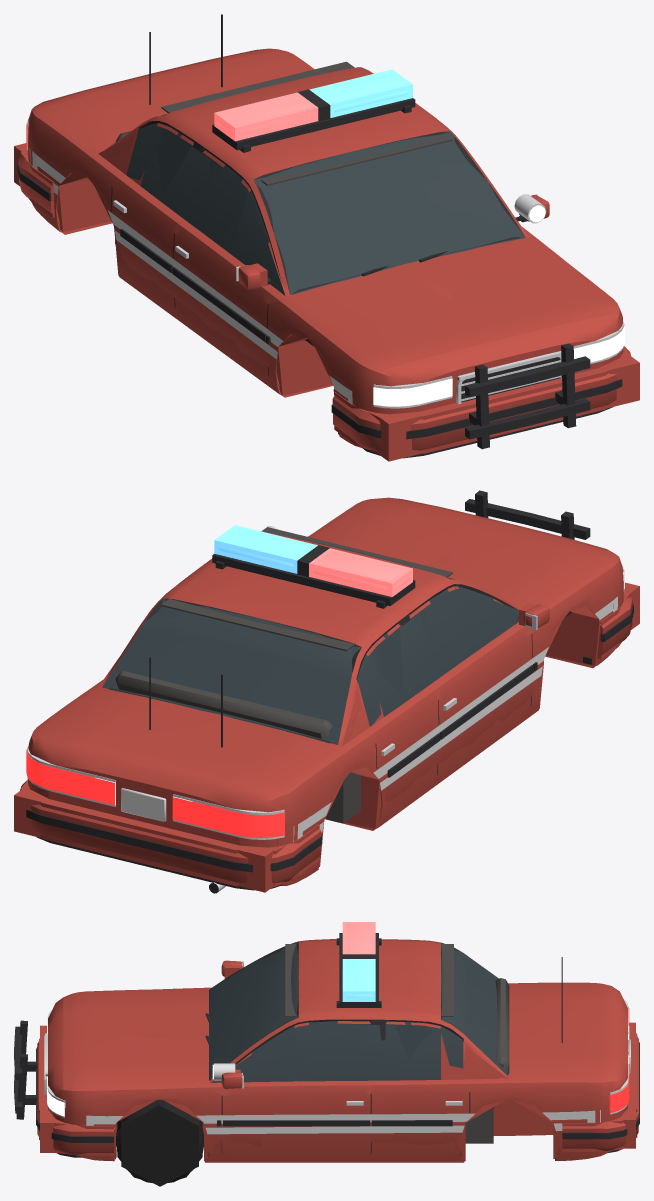
Rendered from sedan-police.glb.
3 views of the same model, one above another, from view 1: azimuth 30°, elevation 25°; view 2: azimuth 150°, elevation 25°; view 3: azimuth 270°, elevation 25° (orthographic). The views are drawn at different scales.
Visible parts, largest first — view 1: lod0_body, lod1_body, lod0_hood, lod2_body, lod1_police, lod0_bumper_F, lod1_light_bar_b, lod1_bumper_F, lod0_police, lod1_light_bar_a, lod0_light_bar_a, lod0_light_head (+5 smaller); view 2: lod0_body, lod1_body, lod0_hood, lod2_body, lod0_bumper_R, lod2_light_tail, lod1_light_bar_a, lod1_police, lod1_bumper_R, lod2_police, lod1_light_bar_b, lod0_light_bar_b (+4 smaller); view 3: lod0_body, lod1_body, lod0_hood, lod2_body, lod0_door, lod2_wheel, lod1_door, lod0_bumper_F, lod0_bumper_R, lod1_police, lod1_light_bar_a, lod0_wheel (+9 smaller).
Part boxes in pixels (<box>): lod0_body: <box>27,48,624,447</box>; lod1_body: <box>29,58,598,447</box>; lod0_hood: <box>281,238,619,372</box>; lod2_body: <box>14,132,639,461</box>; lod1_police: <box>237,89,590,449</box>; lod0_bumper_F: <box>331,346,630,458</box>; lod1_light_bar_b: <box>214,92,318,141</box>; lod1_bumper_F: <box>334,347,630,454</box>; lod0_police: <box>149,14,571,441</box>; lod1_light_bar_a: <box>309,69,412,117</box>; lod0_light_bar_a: <box>320,72,408,112</box>; lod0_light_head: <box>373,326,624,406</box>; lod0_body: <box>27,498,624,893</box>; lod1_body: <box>28,536,613,885</box>; lod0_hood: <box>308,497,619,608</box>; lod2_body: <box>14,551,639,892</box>; lod0_bumper_R: <box>20,780,322,890</box>; lod2_light_tail: <box>45,766,241,836</box>; lod1_light_bar_a: <box>214,525,317,573</box>; lod1_police: <box>297,490,590,576</box>; lod1_bumper_R: <box>20,782,319,886</box>; lod2_police: <box>212,554,415,605</box>; lod1_light_bar_b: <box>309,548,412,596</box>; lod0_light_bar_b: <box>313,551,410,591</box>; lod0_body: <box>44,939,630,1161</box>; lod1_body: <box>45,940,615,1162</box>; lod0_hood: <box>63,987,206,1090</box>; lod2_body: <box>40,975,635,1161</box>; lod0_door: <box>221,1019,370,1161</box>; lod2_wheel: <box>121,1104,198,1186</box>; lod1_door: <box>218,1019,370,1162</box>; lod0_bumper_F: <box>36,1041,116,1157</box>; lod0_bumper_R: <box>562,1037,639,1153</box>; lod1_police: <box>14,954,376,1119</box>; lod1_light_bar_a: <box>342,959,375,1001</box>; lod0_wheel: <box>116,1099,203,1182</box>.
Bounding box in the file's own units: 2.11 × 1.49 × 4.75.
